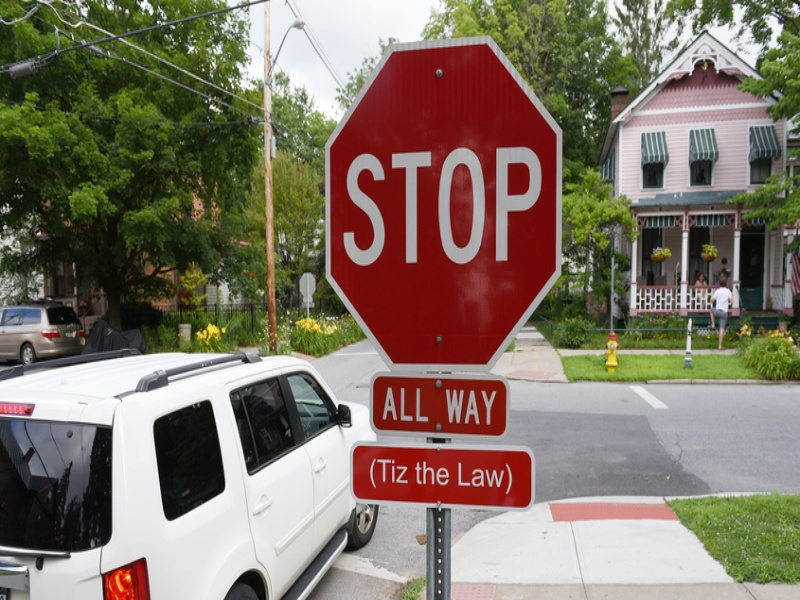stop sign: (313, 29, 566, 371)
